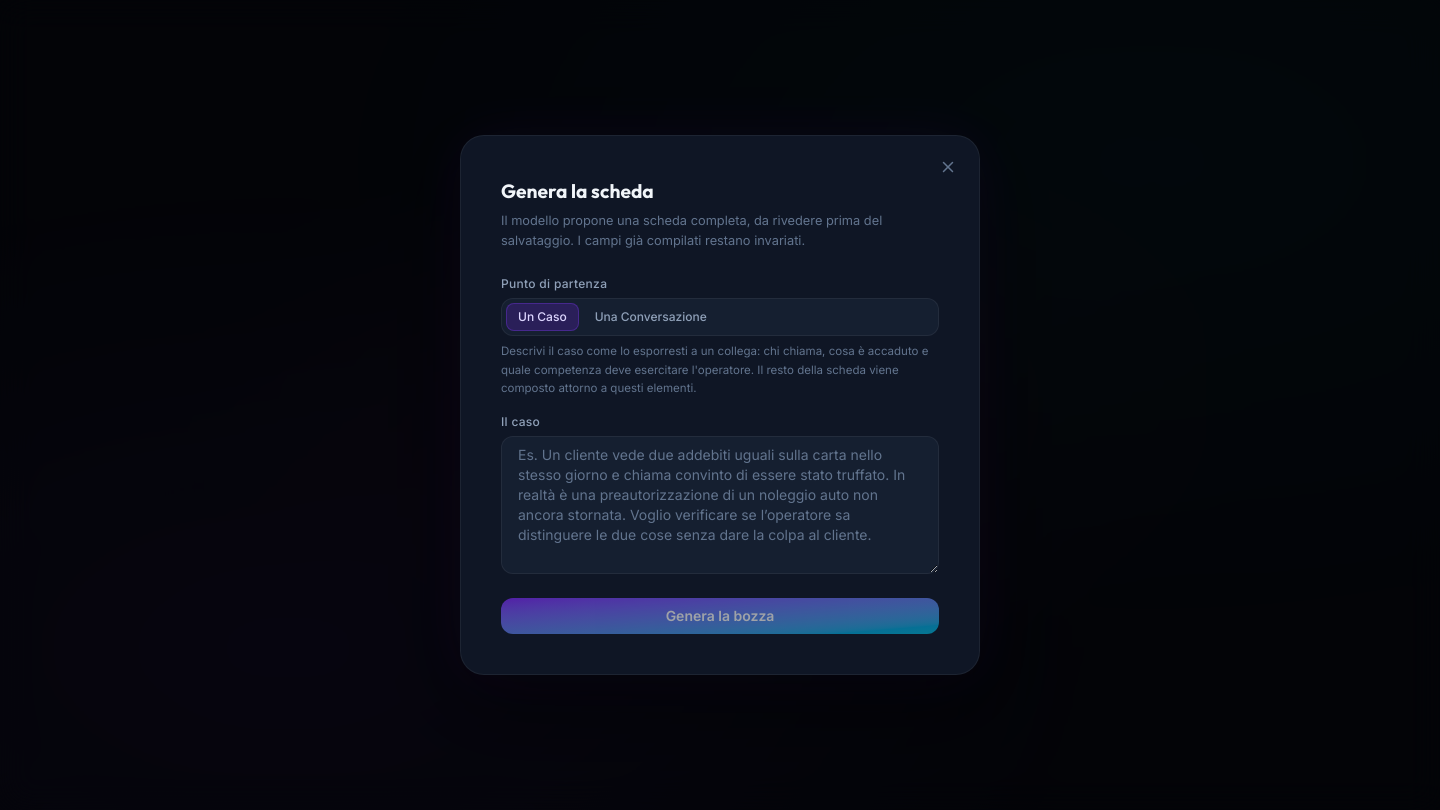
Test case: PersonaDraftModal › cambia fonte, e con lei il campo e le istruzioni
Click the radio button labelled "Una Conversazione": (651, 317) [583, 303, 719, 331]
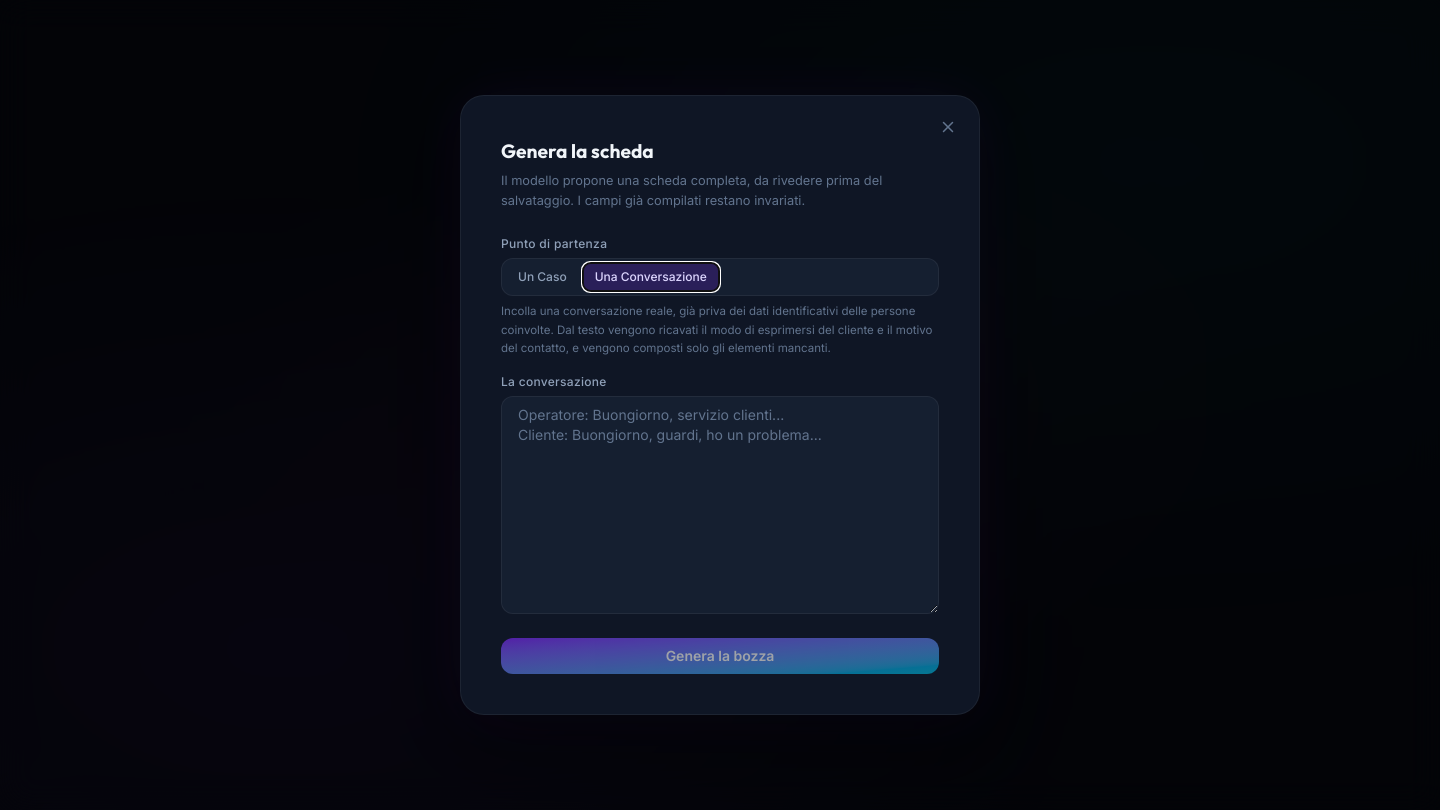
Check: the text box labelled "La conversazione" is shown, box [501, 396, 939, 614]
Check: the text "già priva dei dati identificativi" is shown, box [501, 304, 932, 356]
